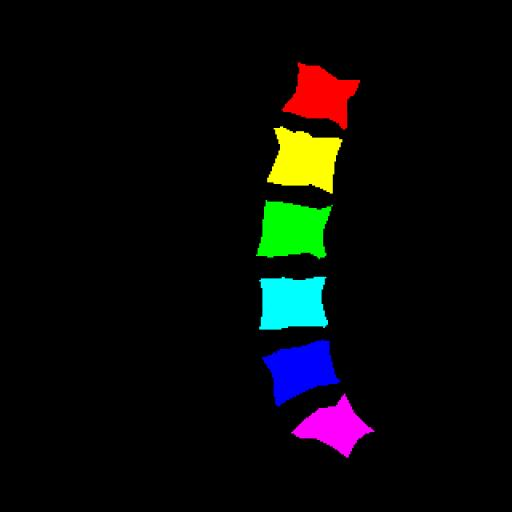L1: (282, 63, 360, 129)
L2: (267, 127, 342, 194)
L3: (257, 202, 331, 258)
L4: (259, 277, 328, 330)
L5: (263, 340, 340, 406)
S1: (292, 394, 374, 458)
